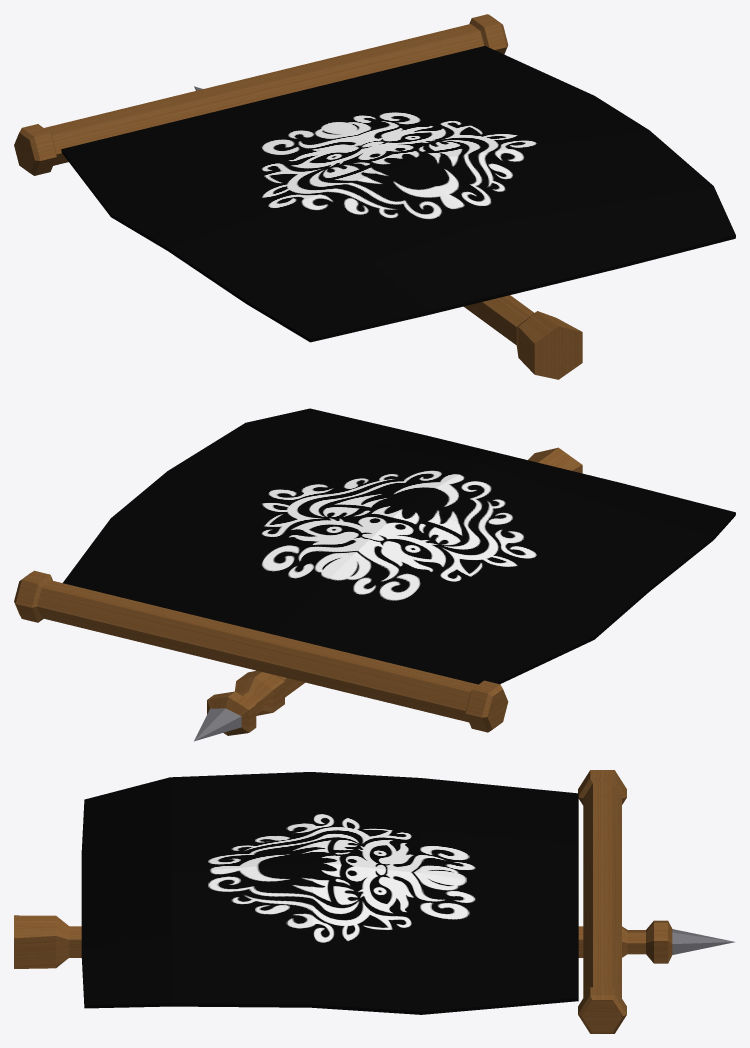
The model's file is sail_a_6.fbx.
The picture shows the model from 3 angles, top to bottom: view 1: azimuth 30°, elevation 25°; view 2: azimuth 150°, elevation 25°; view 3: azimuth 270°, elevation 25°; orthographic projection.
Visible parts, largest first — view 1: Cube.057; view 2: Cube.057; view 3: Cube.057.
Boxes of the visible parts, x1=… form: Cube.057: x1=14, y1=14, x2=735, y2=379; Cube.057: x1=14, y1=408, x2=735, y2=741; Cube.057: x1=14, y1=770, x2=734, y2=1033.
Bounding box in the file's own units: 101 × 21.39 × 131.
